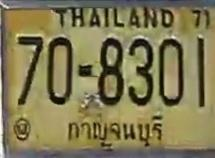0: (158, 38, 184, 106), (47, 36, 72, 104)
1: (196, 38, 205, 103)
3: (127, 38, 154, 105)
7: (16, 35, 43, 104)
8: (97, 37, 123, 105)
KRI: (61, 113, 170, 149)
